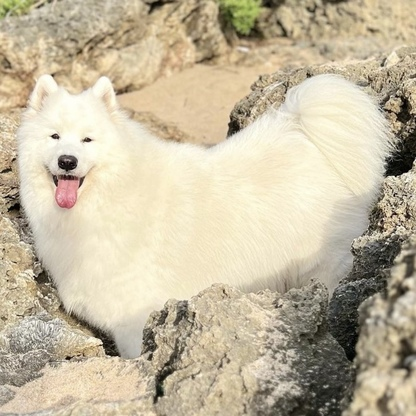samoyed: (8, 67, 394, 363)
